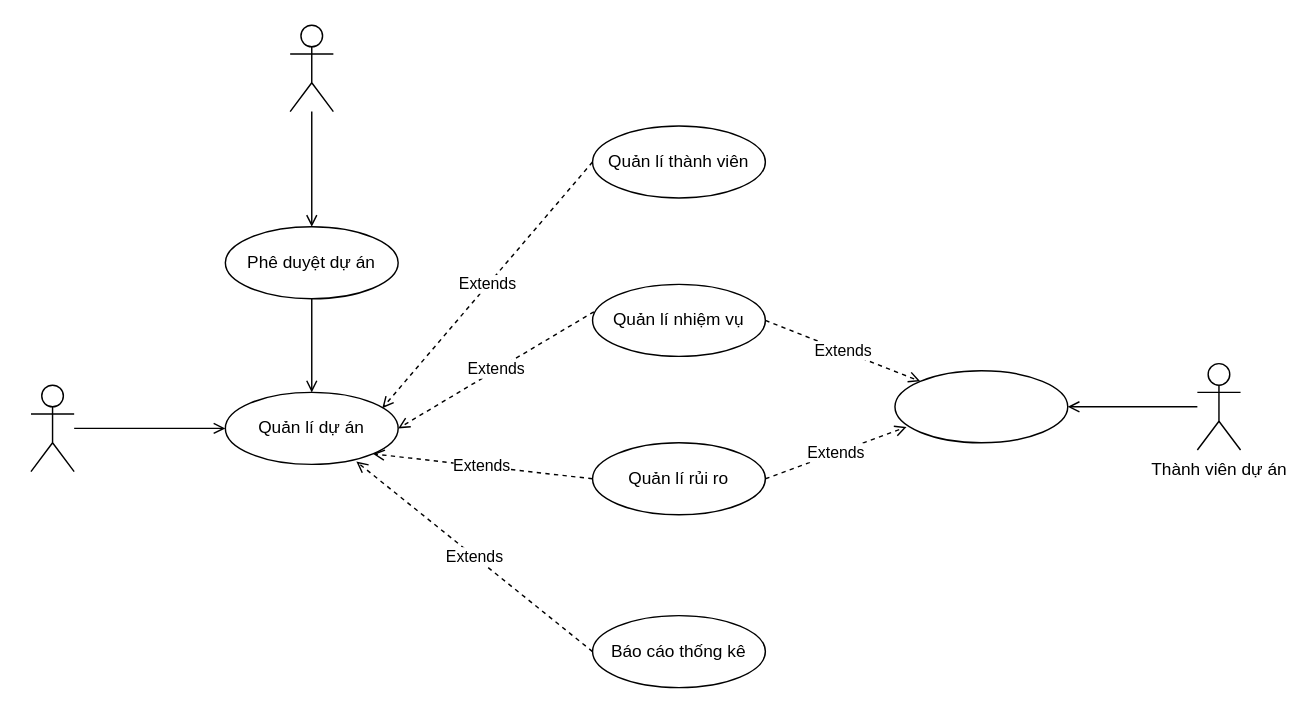
Image size: 1312x713. Some labels were removed from this diagram. The centre of each missing label's shape, as x and y in pixels:
Admin: point (311, 68)
Báo cáo tiến độ: point (981, 406)
Quản lí: point (52, 428)
